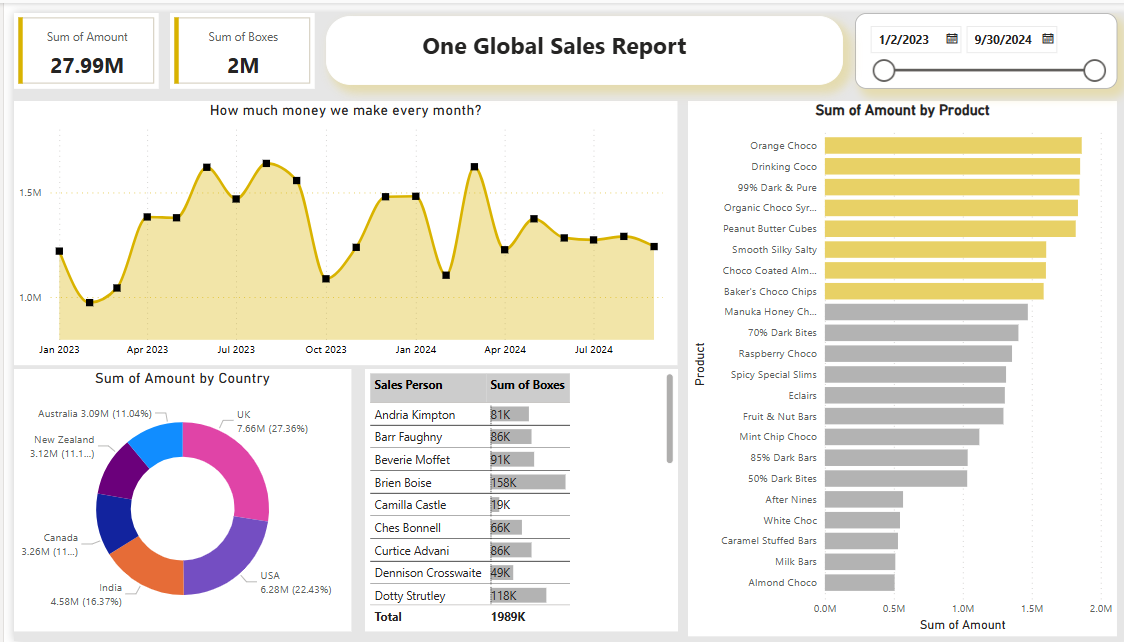

The page's visual inventory and layout, read from the dashboard file:
{"tool":"powerbi","page":{"name":"Duplicate of Page 1","canvas":[1280,720],"ordinal":1},"visuals":[{"type":"areaChart","title":"How much money we make every month?","fields":{"Category":["data.Date.Variation.Date Hierarchy.Year","data.Date.Variation.Date Hierarchy.Quarter","data.Date.Variation.Date Hierarchy.Month","data.Date.Variation.Date Hierarchy.Day"],"Y":["data.Amount"]},"box":[0,101,761.2,302.9],"z":0},{"type":"donutChart","fields":{"Category":["data.Country"],"Y":["data.Amount"]},"box":[0,408.5,386.8,301.4],"z":1000},{"type":"tableEx","fields":{"Values":["data.Sales Person","data.Boxes"]},"box":[402.3,408.5,358.8,301.4],"z":2000},{"type":"barChart","fields":{"Category":["data.Product"],"Y":["data.Amount"]},"box":[773.6,101,492.4,613.6],"z":3000},{"type":"cardVisual","fields":{"Data":["data.Amount"]},"box":[0,0,166.2,87],"z":4000},{"type":"cardVisual","fields":{"Data":["data.Boxes"]},"box":[178.6,0,166.2,87],"z":5000},{"type":"slicer","fields":{"Values":["data.Date"]},"box":[964.7,0,301.4,87],"z":6000},{"type":"textbox","box":[357.3,3.1,593.4,79.2],"z":7000}]}

Visuals, with their boxes in screenshot pixels (x1, y1, x2, y2), scaled from the page's 1280x720 canvas onto the 1124x642 screenshot:
"How much money we make every month?" areaChart: [0, 90, 668, 360]
donutChart - data.Country x data.Amount: [0, 364, 340, 633]
tableEx - data.Sales Person x data.Boxes: [353, 364, 668, 633]
barChart - data.Product x data.Amount: [679, 90, 1112, 637]
cardVisual - data.Amount: [0, 0, 146, 78]
cardVisual - data.Boxes: [157, 0, 303, 78]
slicer - data.Date: [847, 0, 1112, 78]
textbox: [314, 3, 835, 73]
